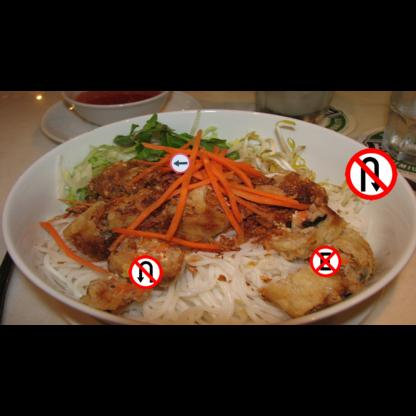R-24a: (170, 153, 190, 173)
R-5a: (128, 255, 163, 289)
R-6c: (310, 245, 341, 277)
